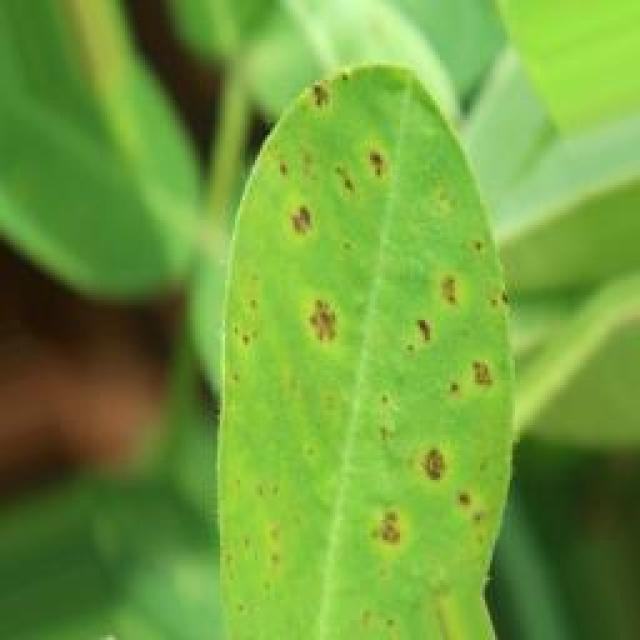Sigatoka: (220, 161, 345, 278), (250, 274, 358, 378), (398, 242, 470, 368), (391, 424, 494, 511), (339, 481, 442, 561), (431, 324, 505, 412), (327, 121, 404, 201), (282, 66, 346, 137), (473, 274, 527, 337)
